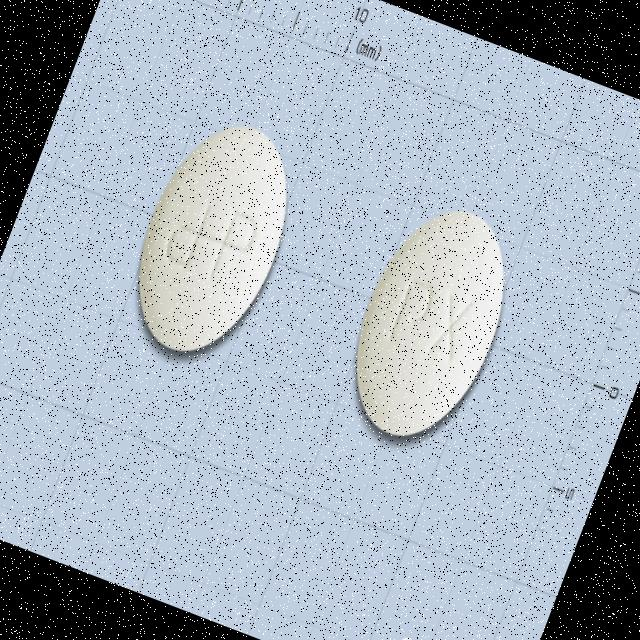Proxco Tab: (109, 104, 317, 374), (328, 189, 534, 457)
